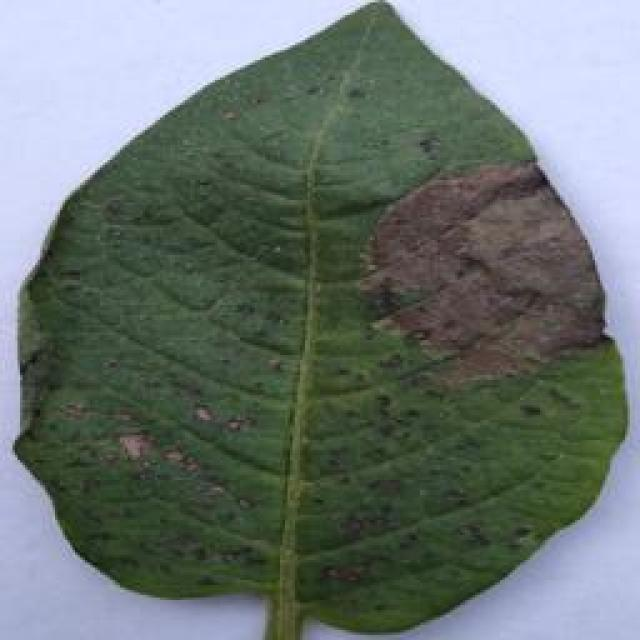Potato_Late_Blight: (2, 9, 632, 630)
